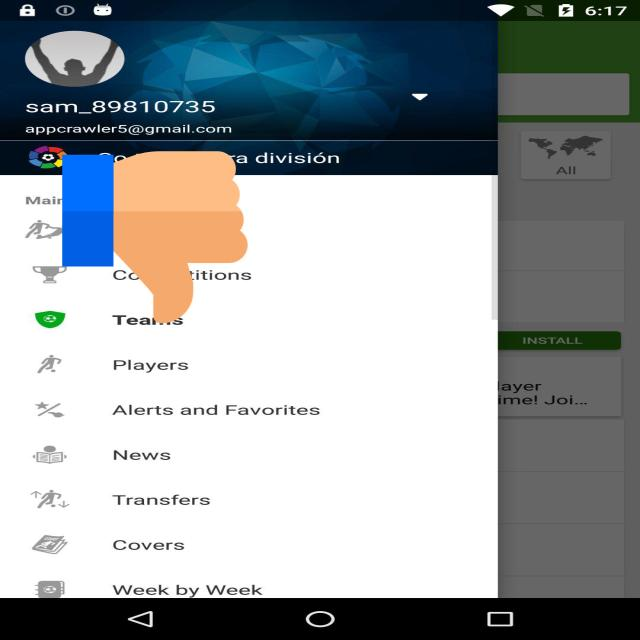obstruction: (62, 147, 248, 328)
